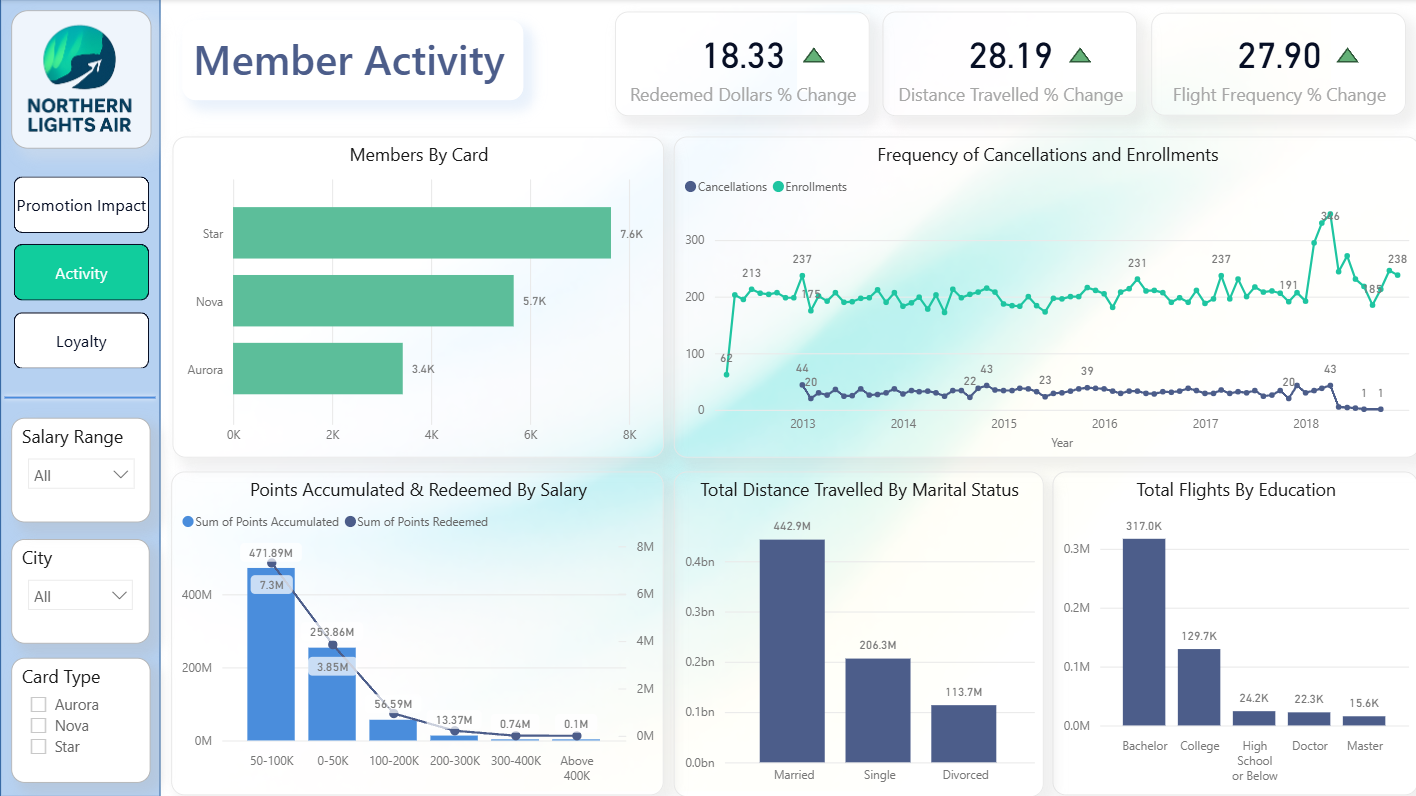

This screenshot's page, from the dashboard's own definition file:
{"tool":"powerbi","page":{"name":"Activity","canvas":[1280,720],"ordinal":1},"visuals":[{"type":"image","box":[145.3,0,1134.7,719.1],"z":0},{"type":"shape","box":[0,0,144.8,719.5],"z":1000},{"type":"tableEx","fields":{"Values":["Customer Flight Activity.TDistance YoY% Growth"]},"box":[952.3,8.8,86.7,92.6],"z":2000},{"type":"tableEx","fields":{"Values":["Customer Flight Activity.TDollarsRedeemed YoY% Growth"]},"box":[712.7,8.8,86.7,92.6],"z":3000},{"type":"tableEx","fields":{"Values":["Customer Loyalty History.Total Flights YoY% Growth"]},"box":[1193.3,8.8,86.7,92.6],"z":4000},{"type":"card","fields":{"Values":["Customer Flight Activity.TDistance YoY% Growth"]},"box":[796.3,11,229.9,94.2],"z":5000},{"type":"card","fields":{"Values":["Customer Flight Activity.TDollarsRedeemed YoY% Growth"]},"box":[554.2,11,229.9,94.2],"z":6000},{"type":"clusteredBarChart","title":"Members By Card","fields":{"Category":["Customer Loyalty History.Loyalty Card"],"Y":["CountNonNull(Customer Loyalty History.Loyalty Number)"]},"box":[155.5,124.4,442.9,289.9],"z":7000},{"type":"lineClusteredColumnComboChart","title":"Points Accumulated & Redeemed By Salary","fields":{"Y":["Sum(Agg Flight Activity.Points Accumulated)"],"Y2":["Sum(Agg Flight Activity.Points Redeemed)"],"Category":["Customer Loyalty History.Salary Range"]},"box":[154.3,425.5,444.2,292.4],"z":8000},{"type":"clusteredColumnChart","title":"Total Flights By Education","fields":{"Y":["Sum(Agg Flight Activity.Total Flights)"],"Category":["Customer Loyalty History.Education"]},"box":[949.3,425.5,329.7,292.4],"z":9000},{"type":"card","fields":{"Values":["Customer Loyalty History.Total Flights YoY% Growth"]},"box":[1038.4,12.2,229.9,92.9],"z":10000},{"type":"textbox","box":[164.9,18.9,307.1,71.7],"z":11000},{"type":"lineChart","title":"Frequency of Cancellations and Enrollments","fields":{"Y":["CountNonNull(Customer Loyalty History.Cancellation Date)","CountNonNull(Customer Loyalty History.Enrollment Date)"],"Category":["Calendar.Start of Month.Variation.Date Hierarchy.Year","Calendar.Start of Month.Variation.Date Hierarchy.Month","Calendar.Start of Month.Variation.Date Hierarchy.Day"]},"box":[607.2,124.4,673.1,289.9],"z":12000},{"type":"clusteredColumnChart","title":"Total Distance Travelled By Marital Status","fields":{"Y":["Sum(Agg Flight Activity.Total Distance)"],"Category":["Customer Loyalty History.Marital Status"]},"box":[607.2,425.5,333.4,293.6],"z":13000},{"type":"slicer","title":"City","fields":{"Values":["Customer Loyalty History.City"]},"box":[9.8,486.7,124.7,94.2],"z":14000},{"type":"slicer","title":"Card Type","fields":{"Values":["Customer Loyalty History.Loyalty Card"]},"box":[9.8,594.3,126,112.5],"z":15000},{"type":"shape","box":[0,347.3,144.3,24.5],"z":16000},{"type":"image","box":[9.8,9.8,126.5,125.1],"z":17000},{"type":"pageNavigator","box":[12.2,160.4,122.3,173.6],"z":18000},{"type":"slicer","title":"Salary Range","fields":{"Values":["Calendar.Date.Variation.Date Hierarchy.Year"]},"box":[9.8,377.9,126,94.2],"z":19000}]}

Visuals, with their boxes in screenshot pixels (x1, y1, x2, y2), scaled from the page's 1280x720 canvas onto the 1416x796 screenshot:
image: (left=161, top=0, right=1415, bottom=795)
shape: (left=0, top=0, right=160, bottom=795)
tableEx - Customer Flight Activity.TDistance YoY% Growth: (left=1053, top=10, right=1149, bottom=112)
tableEx - Customer Flight Activity.TDollarsRedeemed YoY% Growth: (left=788, top=10, right=884, bottom=112)
tableEx - Customer Loyalty History.Total Flights YoY% Growth: (left=1320, top=10, right=1415, bottom=112)
card - Customer Flight Activity.TDistance YoY% Growth: (left=881, top=12, right=1135, bottom=116)
card - Customer Flight Activity.TDollarsRedeemed YoY% Growth: (left=613, top=12, right=867, bottom=116)
"Members By Card" clusteredBarChart: (left=172, top=138, right=662, bottom=458)
"Points Accumulated & Redeemed By Salary" lineClusteredColumnComboChart: (left=171, top=470, right=662, bottom=794)
"Total Flights By Education" clusteredColumnChart: (left=1050, top=470, right=1415, bottom=794)
card - Customer Loyalty History.Total Flights YoY% Growth: (left=1149, top=13, right=1403, bottom=116)
textbox: (left=182, top=21, right=522, bottom=100)
"Frequency of Cancellations and Enrollments" lineChart: (left=672, top=138, right=1415, bottom=458)
"Total Distance Travelled By Marital Status" clusteredColumnChart: (left=672, top=470, right=1041, bottom=795)
"City" slicer: (left=11, top=538, right=149, bottom=642)
"Card Type" slicer: (left=11, top=657, right=150, bottom=781)
shape: (left=0, top=384, right=160, bottom=411)
image: (left=11, top=11, right=151, bottom=149)
pageNavigator: (left=13, top=177, right=149, bottom=369)
"Salary Range" slicer: (left=11, top=418, right=150, bottom=522)
